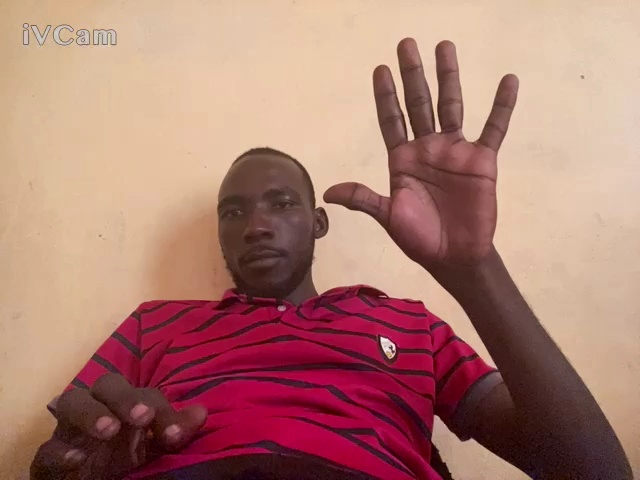Hello: (319, 29, 530, 269)
